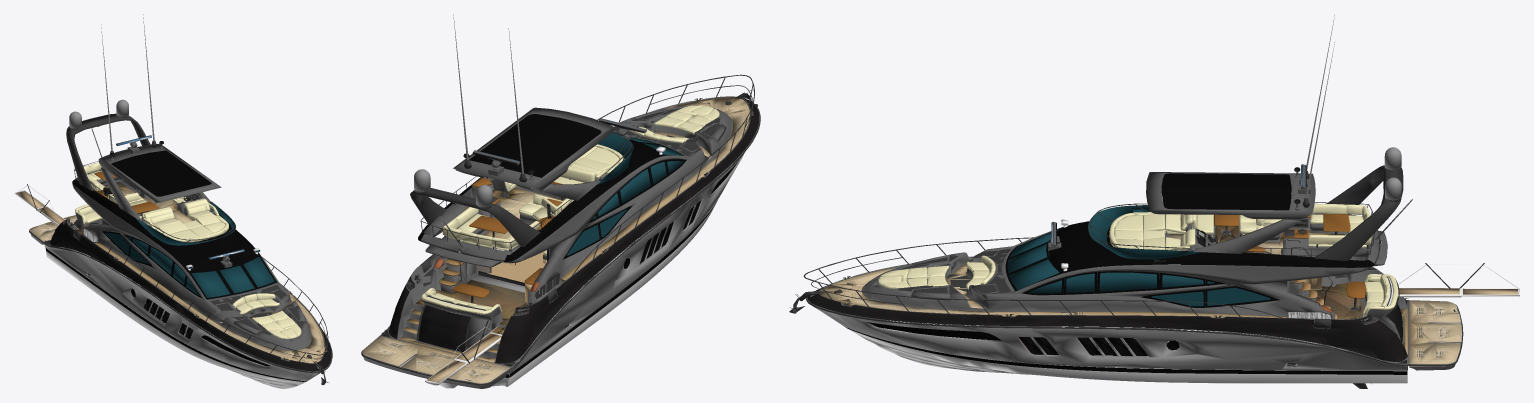
File: lux-yacht.lod0.glb
The picture shows the model from 3 angles, left to right: view 1: azimuth 30°, elevation 25°; view 2: azimuth 150°, elevation 25°; view 3: azimuth 270°, elevation 25°; orthographic projection. The views are drawn at different scales.
Parts seen in each view (by area): view 1: Object_5, Object_6, Object_9, Object_87, Object_4, Object_77, Object_10, Object_45; view 2: Object_6, Object_5, Object_77, Object_10, Object_9, Object_4, Object_87, Object_45; view 3: Object_5, Object_6, Object_9, Object_4, Object_10, Object_77, Object_87, Object_45.
Boxes of the visible parts, left/top/right/bottom form: Object_5: left=29, top=115, right=332, bottom=381; Object_6: left=29, top=14, right=331, bottom=371; Object_9: left=31, top=99, right=327, bottom=381; Object_87: left=75, top=162, right=301, bottom=339; Object_4: left=27, top=113, right=332, bottom=384; Object_77: left=16, top=182, right=325, bottom=363; Object_10: left=50, top=135, right=331, bottom=371; Object_45: left=14, top=174, right=305, bottom=388; Object_6: left=362, top=14, right=759, bottom=383; Object_5: left=361, top=101, right=760, bottom=385; Object_77: left=362, top=97, right=750, bottom=383; Object_10: left=389, top=98, right=759, bottom=363; Object_9: left=363, top=103, right=748, bottom=388; Object_4: left=361, top=74, right=760, bottom=385; Object_87: left=421, top=105, right=719, bottom=314; Object_45: left=381, top=146, right=727, bottom=388; Object_5: left=806, top=164, right=1462, bottom=374; Object_6: left=806, top=15, right=1462, bottom=364; Object_9: left=808, top=147, right=1455, bottom=370; Object_4: left=789, top=165, right=1484, bottom=388; Object_10: left=807, top=165, right=1407, bottom=361; Object_77: left=819, top=226, right=1517, bottom=364; Object_87: left=878, top=203, right=1398, bottom=316; Object_45: left=848, top=219, right=1519, bottom=383.
Size of the model in its own units: 8.5 by 21.22 by 39.99.
9 materials, 4 textured.
